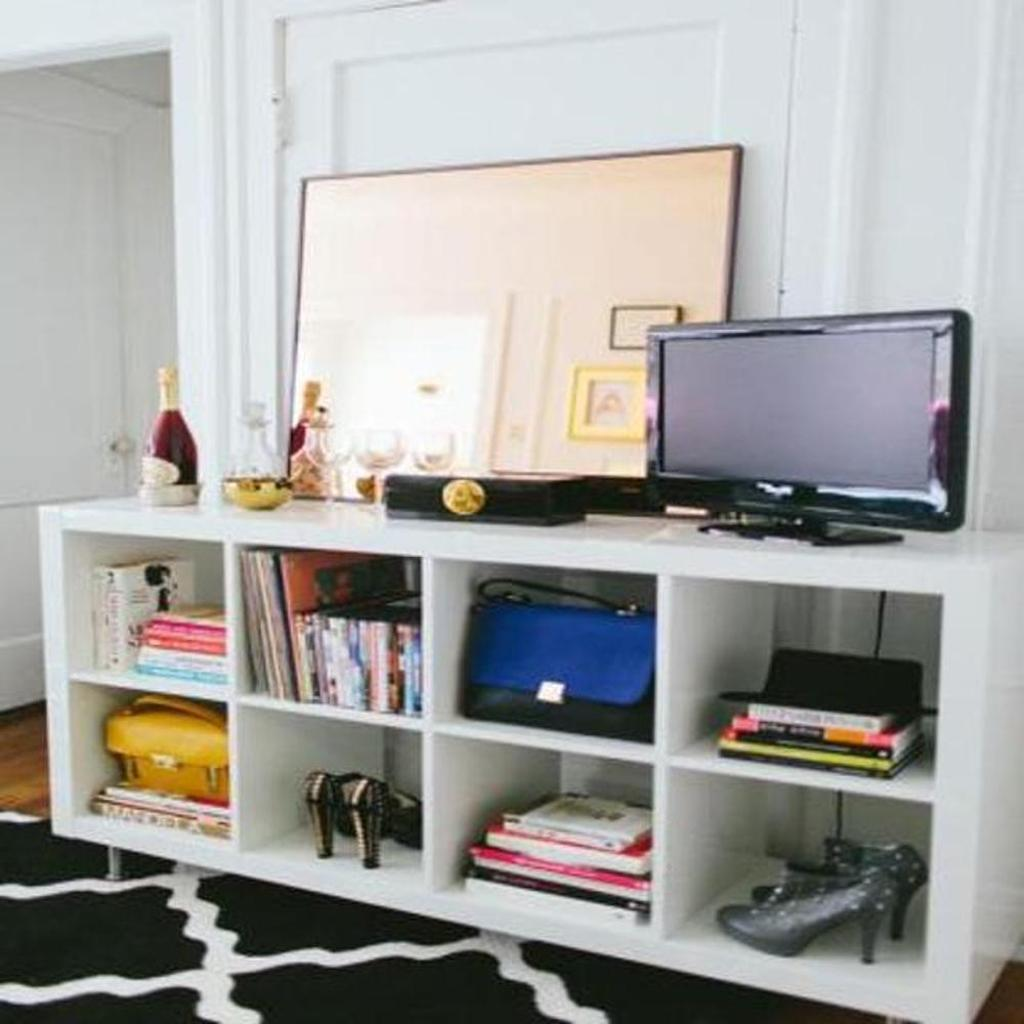lamp: (31, 474, 1022, 1023)
